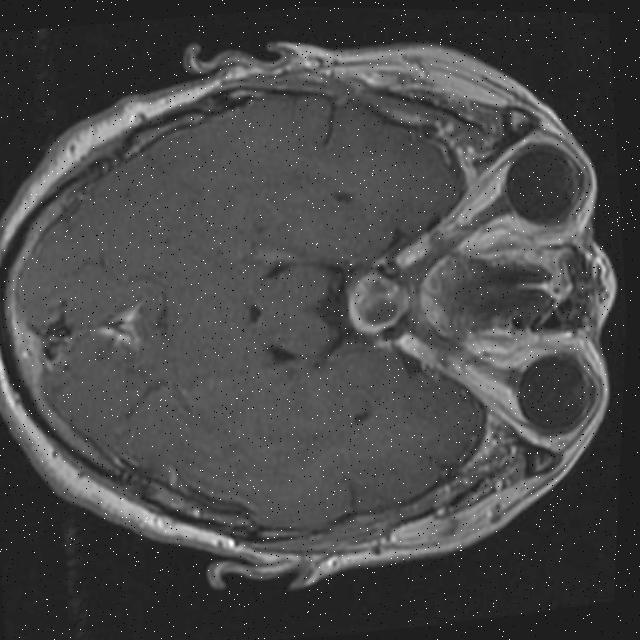Pituitary: (340, 267, 414, 339)
